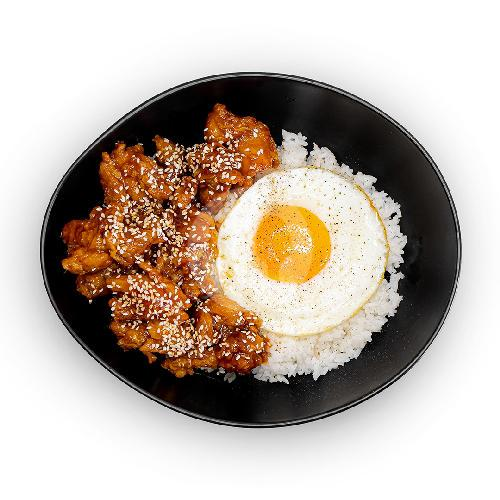Telur: (223, 179, 378, 337)
